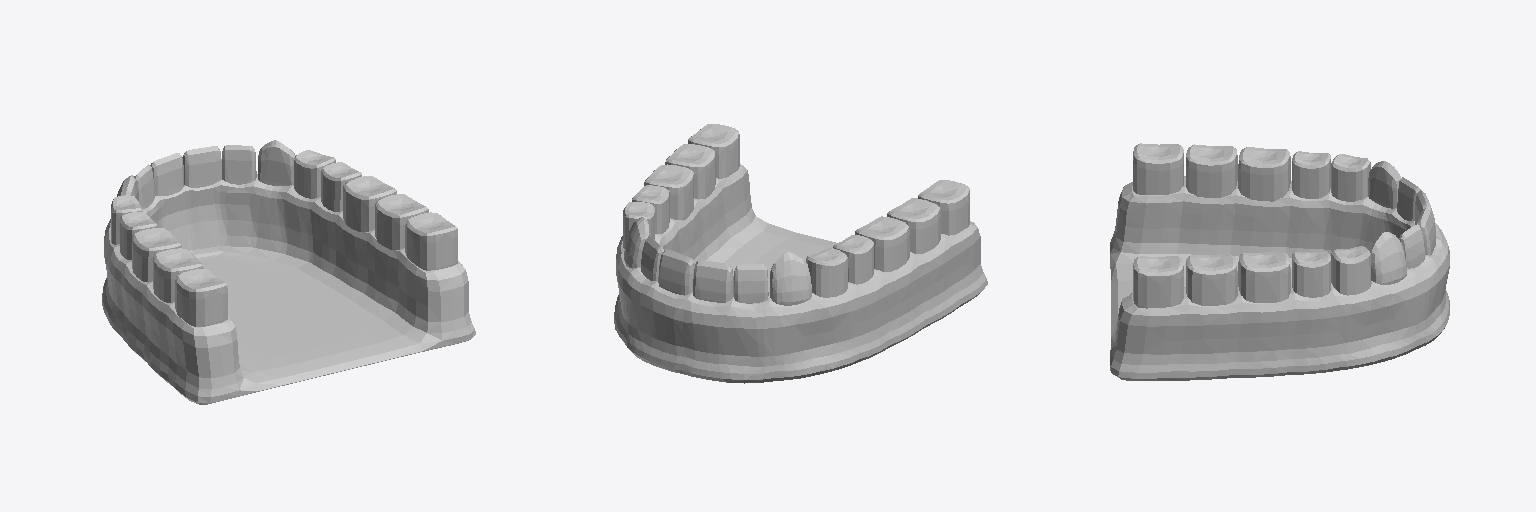
Rendered from lowerteeth.obj.
3 views of the same model, side by side, from view 1: azimuth 30°, elevation 25°; view 2: azimuth 150°, elevation 25°; view 3: azimuth 270°, elevation 25° (orthographic).
Parts seen in each view (by area): view 1: lower_teeth; view 2: lower_teeth; view 3: lower_teeth.
Boxes of the visible parts, x1,y1,x2,y2 form: lower_teeth: [102, 140, 475, 404]; lower_teeth: [614, 124, 987, 383]; lower_teeth: [1110, 143, 1449, 380].
Size of the model in its own units: 1.93 by 0.7773 by 2.